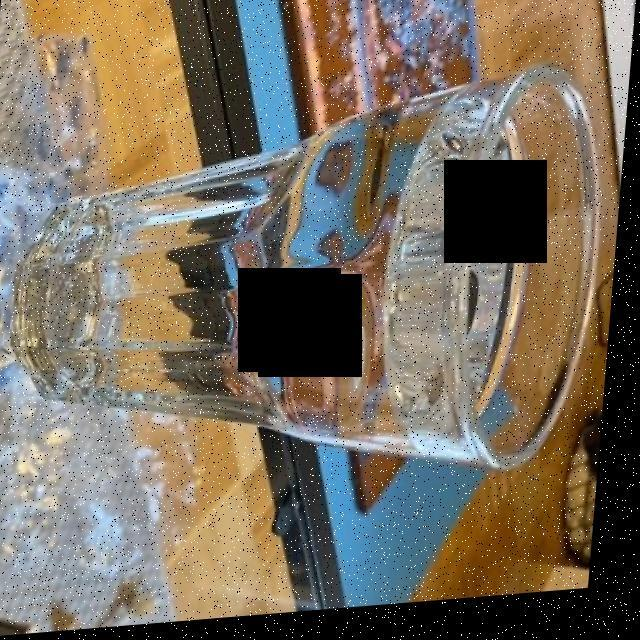water: (34, 110, 528, 458)
